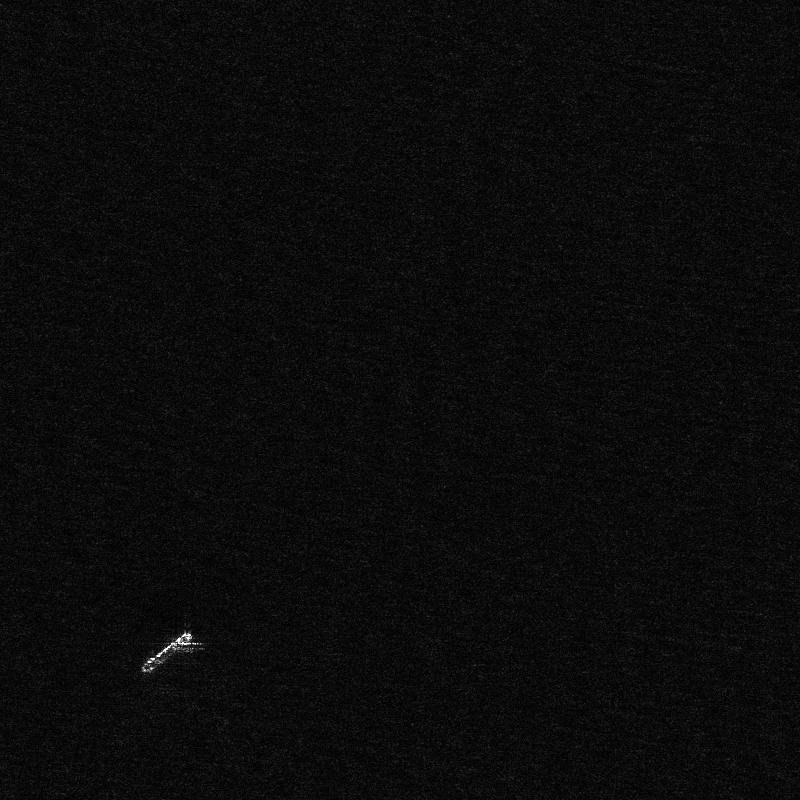ship: (140, 633, 193, 673)
